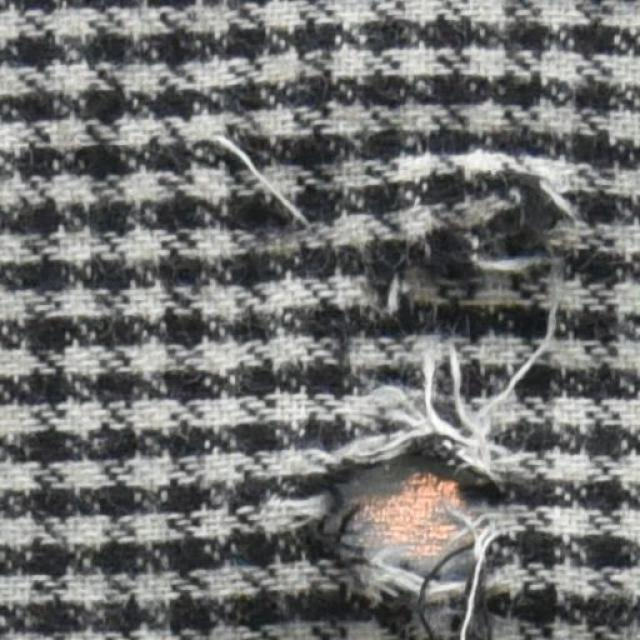Hole: (356, 463, 471, 579)
Snag: (376, 135, 578, 339), (314, 339, 532, 484), (198, 134, 325, 232)
